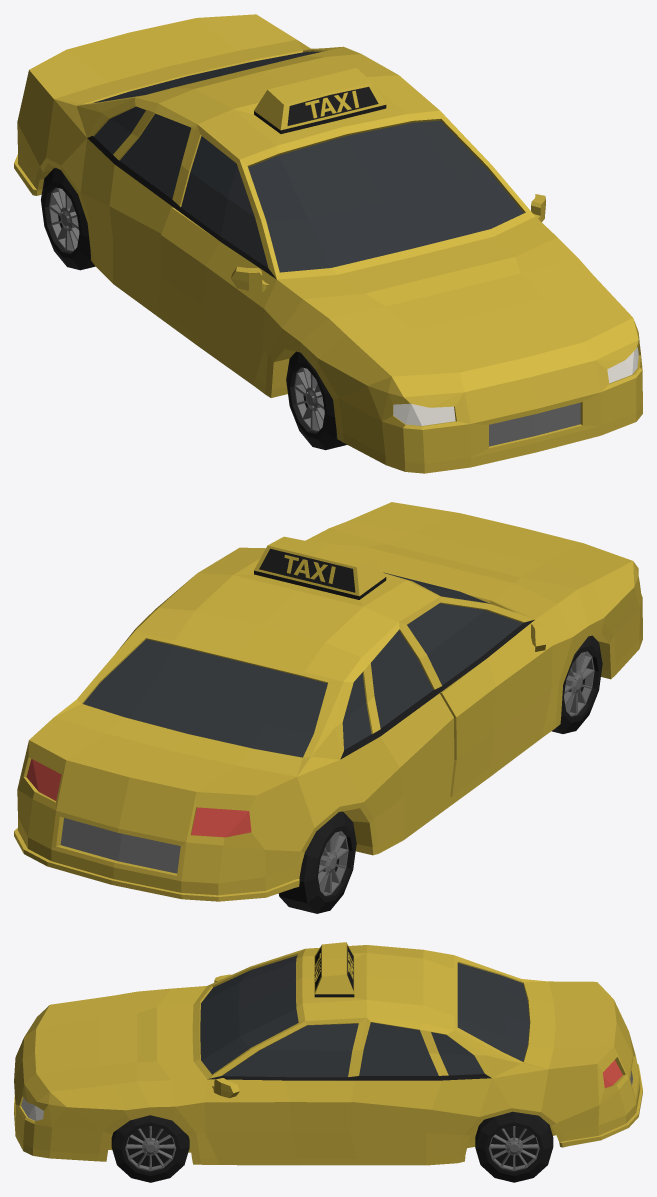
Rendered from taxi.gltf.
3 views of the same model, one above another, from view 1: azimuth 30°, elevation 25°; view 2: azimuth 150°, elevation 25°; view 3: azimuth 270°, elevation 25° (orthographic). The views are drawn at different scales.
Parts seen in each view (by area): view 1: Body, Wheel_RR, Wheel_FR; view 2: Body, Wheel_RR, Wheel_FR; view 3: Body, Wheel_RL, Wheel_FL.
Part boxes in pixels (x1,y1,x2,y2): Body: [14, 14, 642, 473]; Wheel_RR: [41, 168, 95, 270]; Wheel_FR: [286, 351, 346, 450]; Body: [14, 502, 642, 901]; Wheel_RR: [278, 811, 356, 913]; Wheel_FR: [552, 635, 602, 733]; Body: [14, 942, 642, 1165]; Wheel_RL: [475, 1111, 553, 1182]; Wheel_FL: [111, 1115, 189, 1182].
Bounding box in the file's own units: 1.81 × 1.31 × 4.22.
